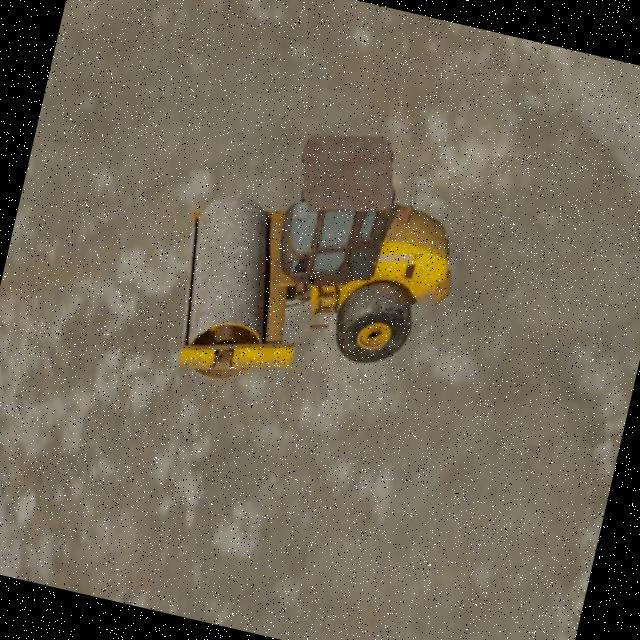Roller: (156, 96, 480, 426)
